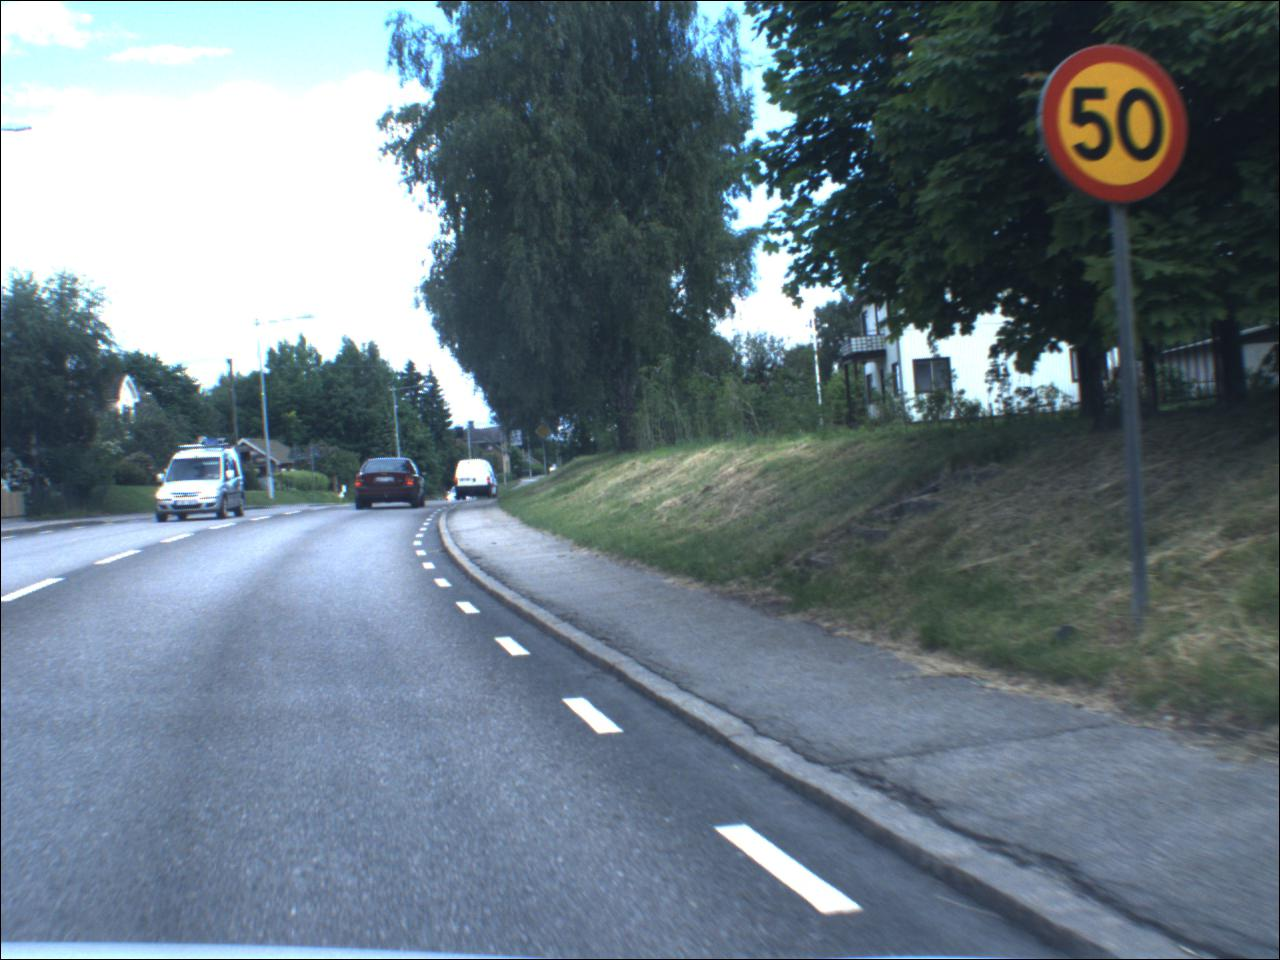50_SIGN: (1029, 42, 1197, 212)
PRIORITY_ROAD: (537, 426, 554, 441)
